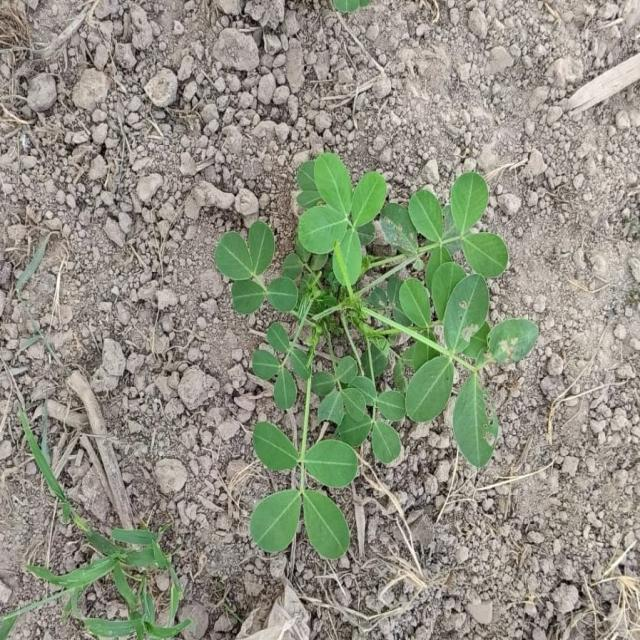plant: (216, 152, 536, 559)
